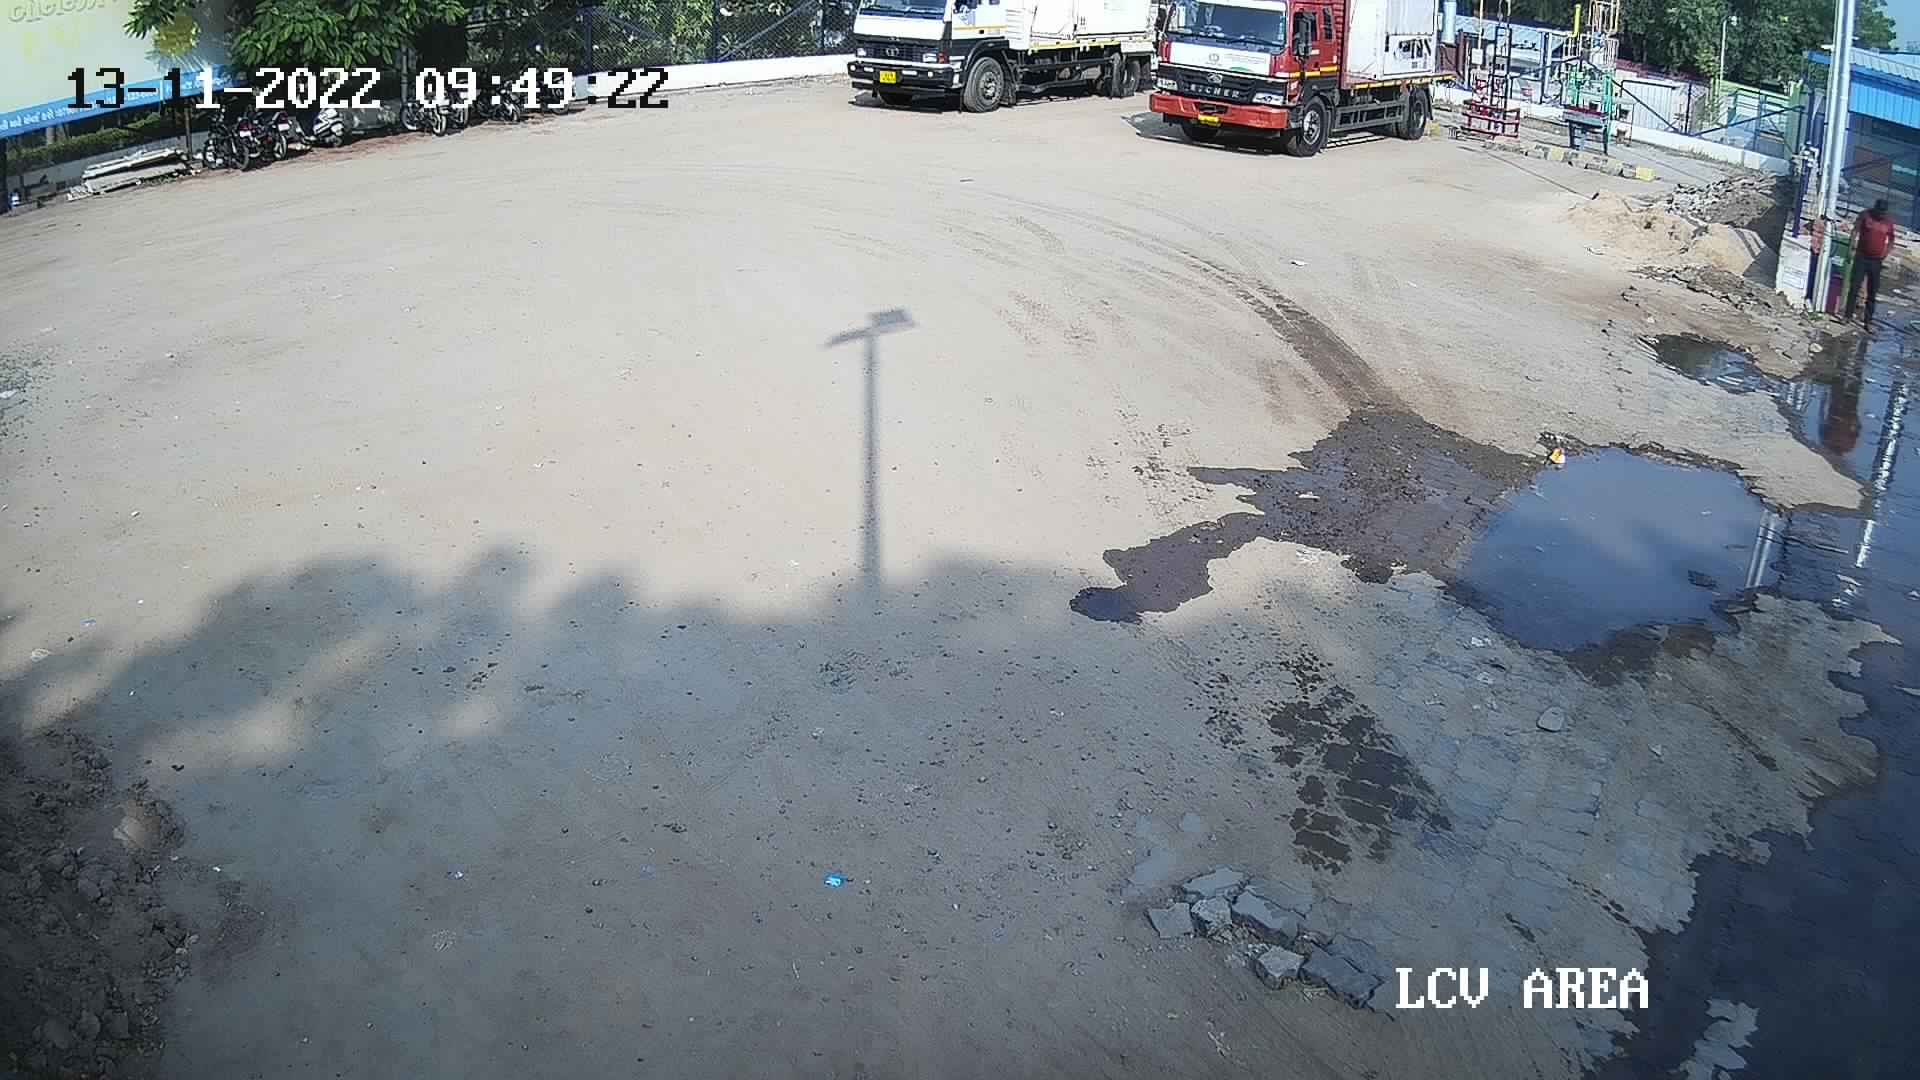HMV: (1133, 1, 1499, 158), (824, 0, 1179, 113)
